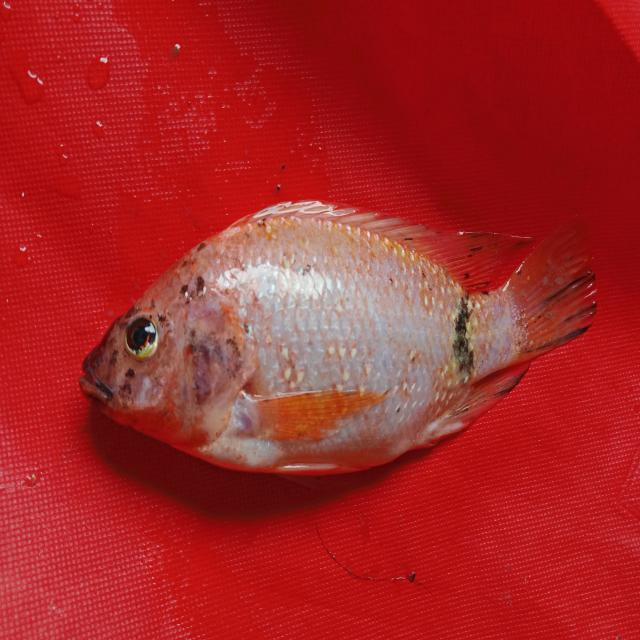ikan: (78, 183, 602, 488)
